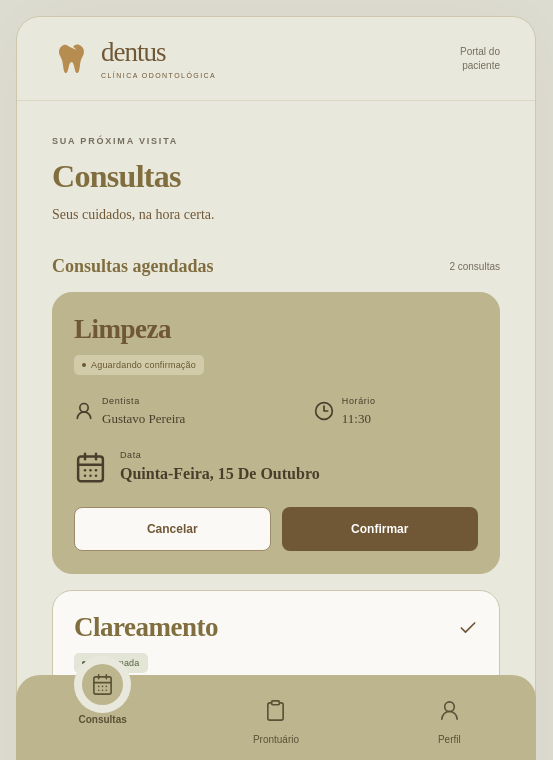
Scenario: 401 em ação retorna ao login sem sucesso
This screenshot has width=553, height=760.
Click the button "Confirmar" at (380,530), box x1=282 y1=508 x2=478 y2=552
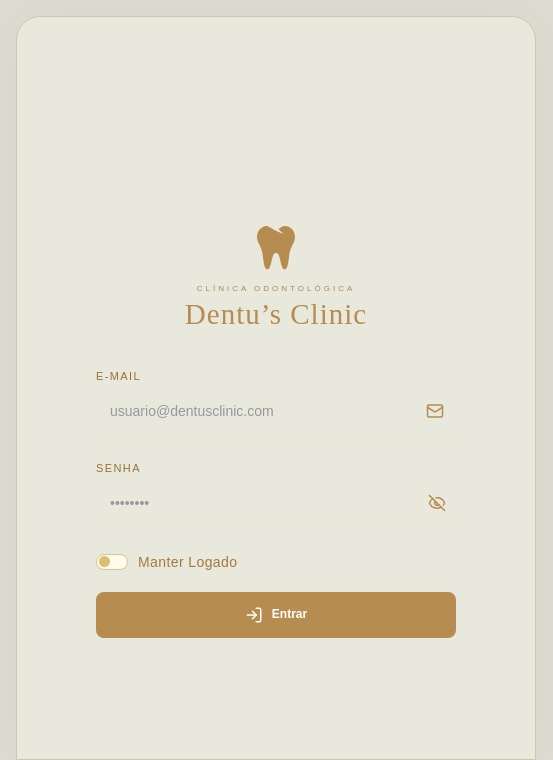
Check: the heading "Dentu’s Clinic" is shown, box x1=185 y1=298 x2=367 y2=330
